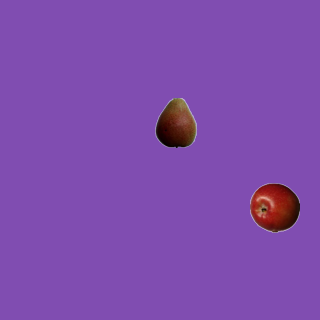Apple Braeburn: (249, 182, 299, 232)
Pear Forelle: (150, 97, 200, 147)
